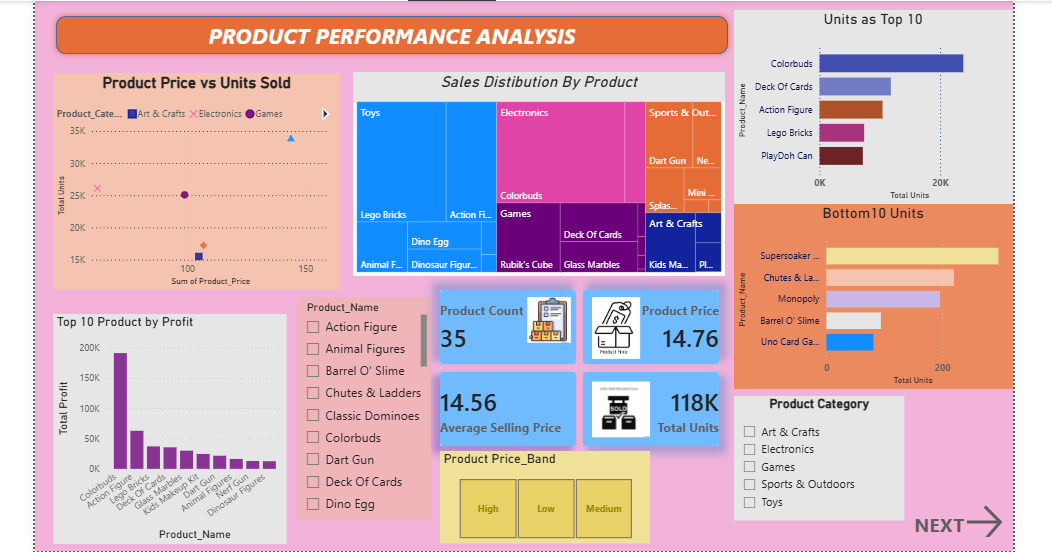

Layout of this report page (visuals, bound fields, positions):
{"tool":"powerbi","page":{"name":"Page 2","canvas":[1280,720],"ordinal":1},"visuals":[{"type":"shape","box":[20.2,11.8,895.3,65.5],"z":0},{"type":"cardVisual","fields":{"Data":["A Measures.Average Selling Price"]},"box":[530.8,485.5,178.1,97.4],"z":1000},{"type":"slicer","title":"Product Category","fields":{"Values":["maven_toys products.Product_Category"]},"box":[915.5,517.4,223.4,162.9],"z":2000},{"type":"slicer","fields":{"Values":["maven_toys products.Product_Name"]},"box":[342.7,388,174.7,292.3],"z":3000},{"type":"cardVisual","fields":{"Data":["A Measures.Total Units"]},"box":[717.3,485.5,178.1,97.4],"z":4000},{"type":"cardVisual","title":"Product Count","fields":{"Data":["A Measures.Product Count"]},"box":[530.8,378,178.1,97.4],"z":5000},{"type":"cardVisual","title":"Avg Product Price","fields":{"Data":["A Measures.Avg Product Price"]},"box":[717.3,378,178.1,97.4],"z":6000},{"type":"barChart","title":"Units as Top 10","fields":{"Category":["maven_toys products.Product_Name"],"Y":["A Measures.Total Units"]},"box":[915.5,11.8,364.5,253.6],"z":7000},{"type":"barChart","title":"Bottom10 Units","fields":{"Category":["maven_toys products.Product_Name"],"Y":["A Measures.Total Units"]},"box":[915.5,265.4,364.5,241.9],"z":8000},{"type":"scatterChart","title":" Product Price vs Units Sold","fields":{"Y":["A Measures.Total Units"],"X":["Sum(maven_toys products.Product_Price)"],"Series":["maven_toys products.Product_Category"]},"box":[23.5,94.1,376.3,283.9],"z":9000},{"type":"slicer","title":"Product Price_Band","fields":{"Values":["maven_toys products.Product Price Band"]},"box":[530.8,589.6,275.5,120.9],"z":10000},{"type":"treemap","title":"Sales Distibution By Product","fields":{"Details":["maven_toys products.Product_Name"],"Values":["A Measures.Total Sales"],"Group":["maven_toys products.Product_Category"]},"box":[416.6,92.4,487.1,267.1],"z":11000},{"type":"columnChart","title":"Top 10 Product by Profit","fields":{"Category":["maven_toys products.Product_Name"],"Y":["A Measures.Total Profit"]},"box":[23.5,409.9,305.7,300.7],"z":12000},{"type":"actionButton","title":"NEXT","box":[1142.3,650.1,137.7,55.4],"z":13000},{"type":"image","box":[728.9,387.3,63.4,81],"z":14000},{"type":"image","box":[728.9,478.9,75.7,110.9],"z":15000},{"type":"image","box":[640.9,387.3,63.4,59.9],"z":16000}]}

Visuals, with their boxes on the page's 1280x720 design canvas (x1, y1, x2, y2). These are canvas units, not pixel positions in the 1052x552 screenshot, which may show the page scaled, cropped or inside an application window:
shape: bbox(20, 12, 916, 77)
cardVisual - A Measures.Average Selling Price: bbox(531, 486, 709, 583)
"Product Category" slicer: bbox(916, 517, 1139, 680)
slicer - maven_toys products.Product_Name: bbox(343, 388, 517, 680)
cardVisual - A Measures.Total Units: bbox(717, 486, 895, 583)
"Product Count" cardVisual: bbox(531, 378, 709, 475)
"Avg Product Price" cardVisual: bbox(717, 378, 895, 475)
"Units as Top 10" barChart: bbox(916, 12, 1280, 265)
"Bottom10 Units" barChart: bbox(916, 265, 1280, 507)
" Product Price vs Units Sold" scatterChart: bbox(24, 94, 400, 378)
"Product Price_Band" slicer: bbox(531, 590, 806, 710)
"Sales Distibution By Product" treemap: bbox(417, 92, 904, 360)
"Top 10 Product by Profit" columnChart: bbox(24, 410, 329, 711)
"NEXT" actionButton: bbox(1142, 650, 1280, 706)
image: bbox(729, 387, 792, 468)
image: bbox(729, 479, 805, 590)
image: bbox(641, 387, 704, 447)
